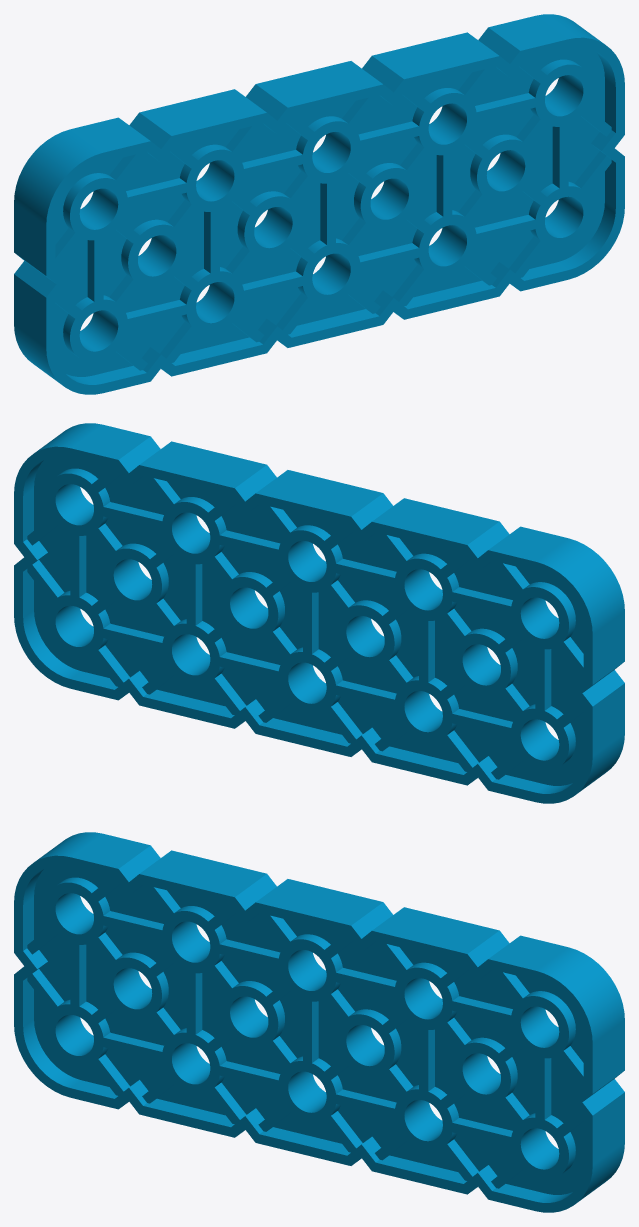
3 views of the same model, one above another, from view 1: azimuth 30°, elevation 25°; view 2: azimuth 150°, elevation 25°; view 3: azimuth 330°, elevation 25° (orthographic).
Parts seen in each view (by area): view 1: main_004c97; view 2: main_004c97; view 3: main_004c97.
Boxes of the visible parts, x1=… form: main_004c97: x1=14, y1=14, x2=624, y2=394; main_004c97: x1=14, y1=423, x2=624, y2=803; main_004c97: x1=14, y1=832, x2=624, y2=1212.
Size of the model in its own units: 63.2 by 25.1 by 6.1.
